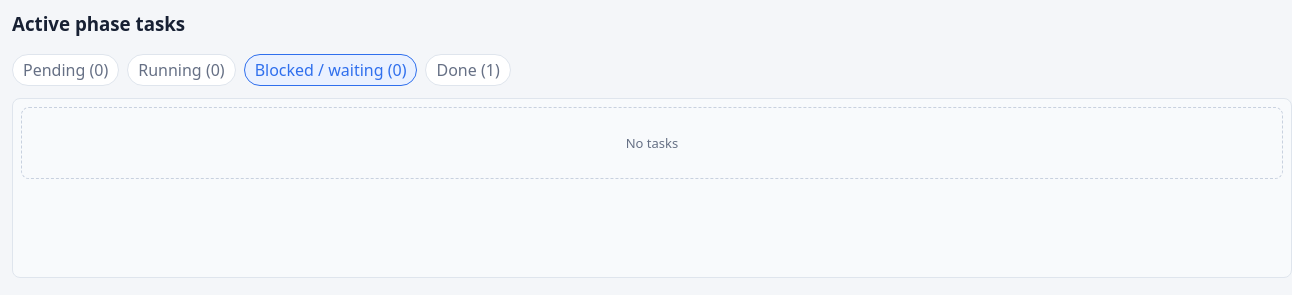
Test case: hides approval actions on a cancelled task
Click the button "Done (1)" at (468, 70), box [426,54,511,86]
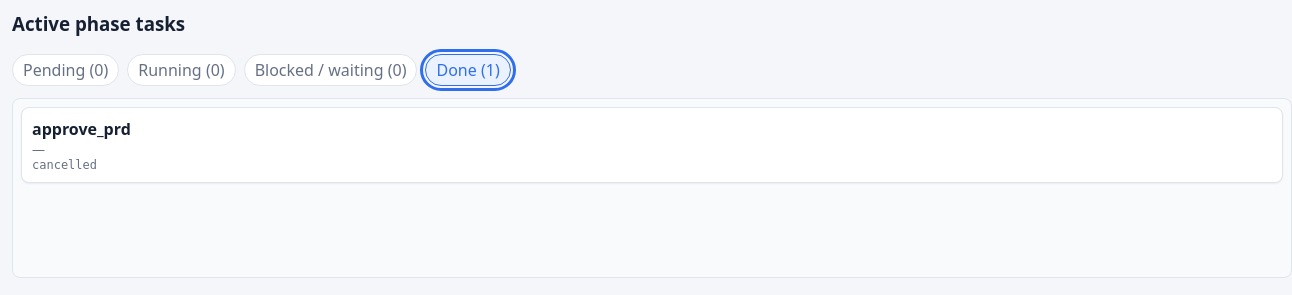
Check: the text "approve_prd" is shown, box [32,118,131,140]
